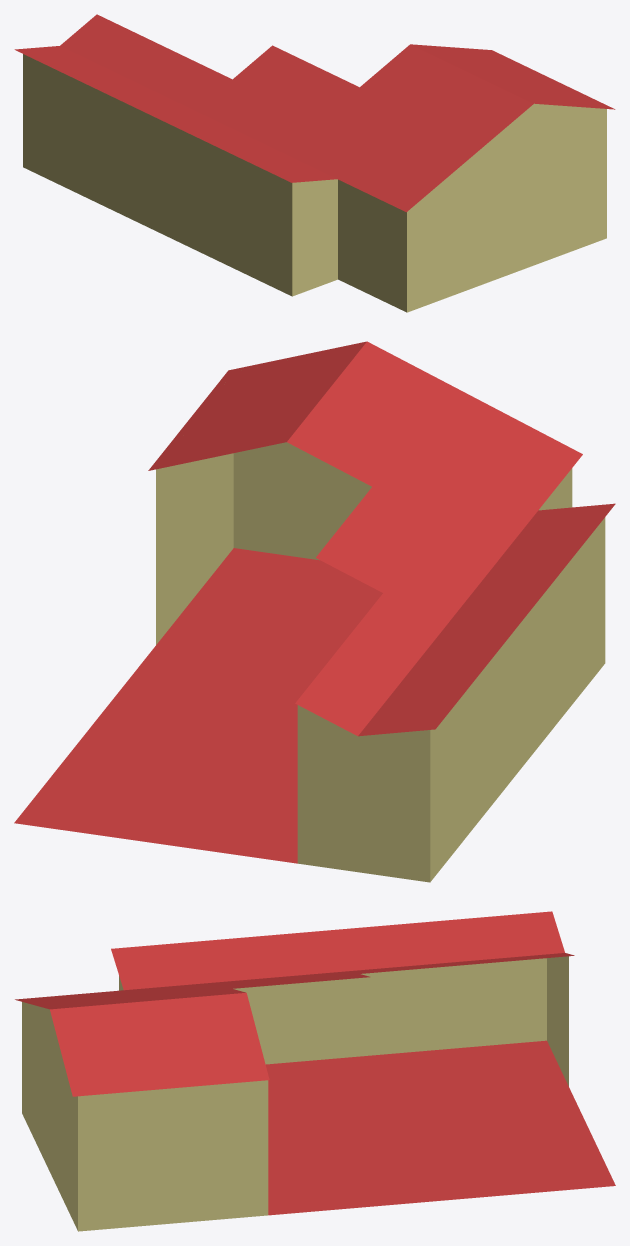
3 renders of one model, top to bottom at view 1: azimuth 30°, elevation 25°; view 2: azimuth 150°, elevation 25°; view 3: azimuth 270°, elevation 25°, orthographic. The views are drawn at different scales.
Bounding box in the file's own units: 34.34 × 44.19 × 14.34.
